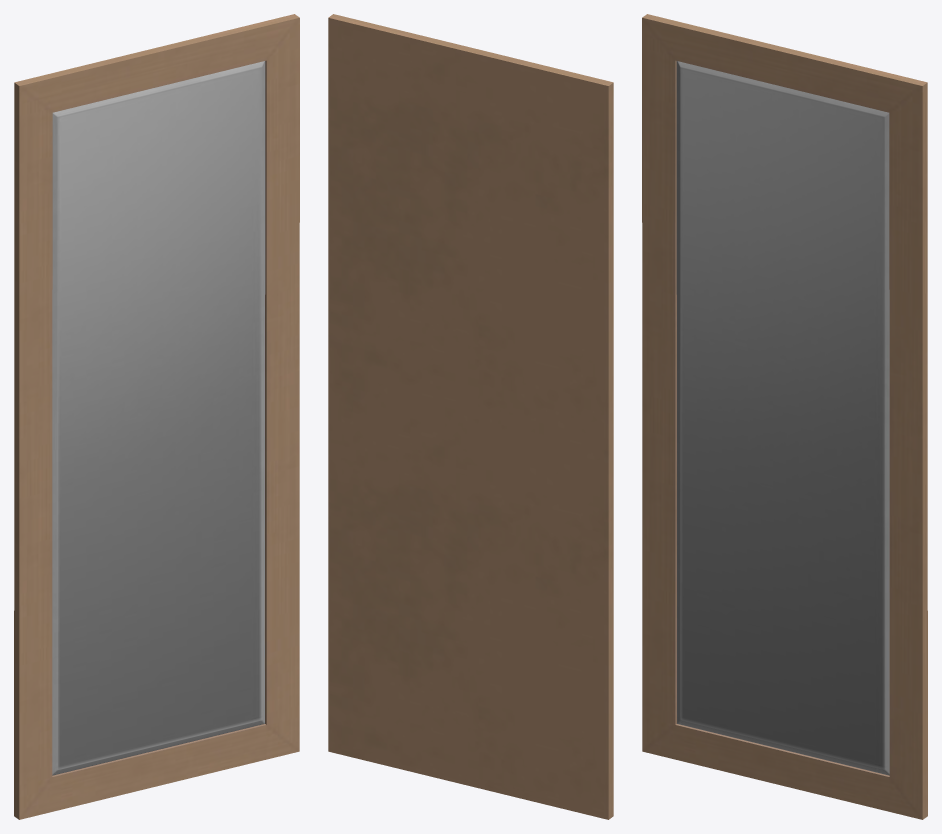
The model's file is B0718ZKL8B.glb.
3 views of the same model, side by side, from view 1: azimuth 30°, elevation 25°; view 2: azimuth 150°, elevation 25°; view 3: azimuth 330°, elevation 25° (orthographic).
Parts seen in each view (by area): view 1: RootNode; view 2: RootNode; view 3: RootNode.
Part boxes in pixels (x1,y1,x2,y2): RootNode: [14, 14, 299, 819]; RootNode: [328, 14, 613, 819]; RootNode: [642, 14, 927, 819].
Size of the model in its own units: 0.8123 by 2.03 by 0.0264.
Materials: 1 (1 with a texture image).
